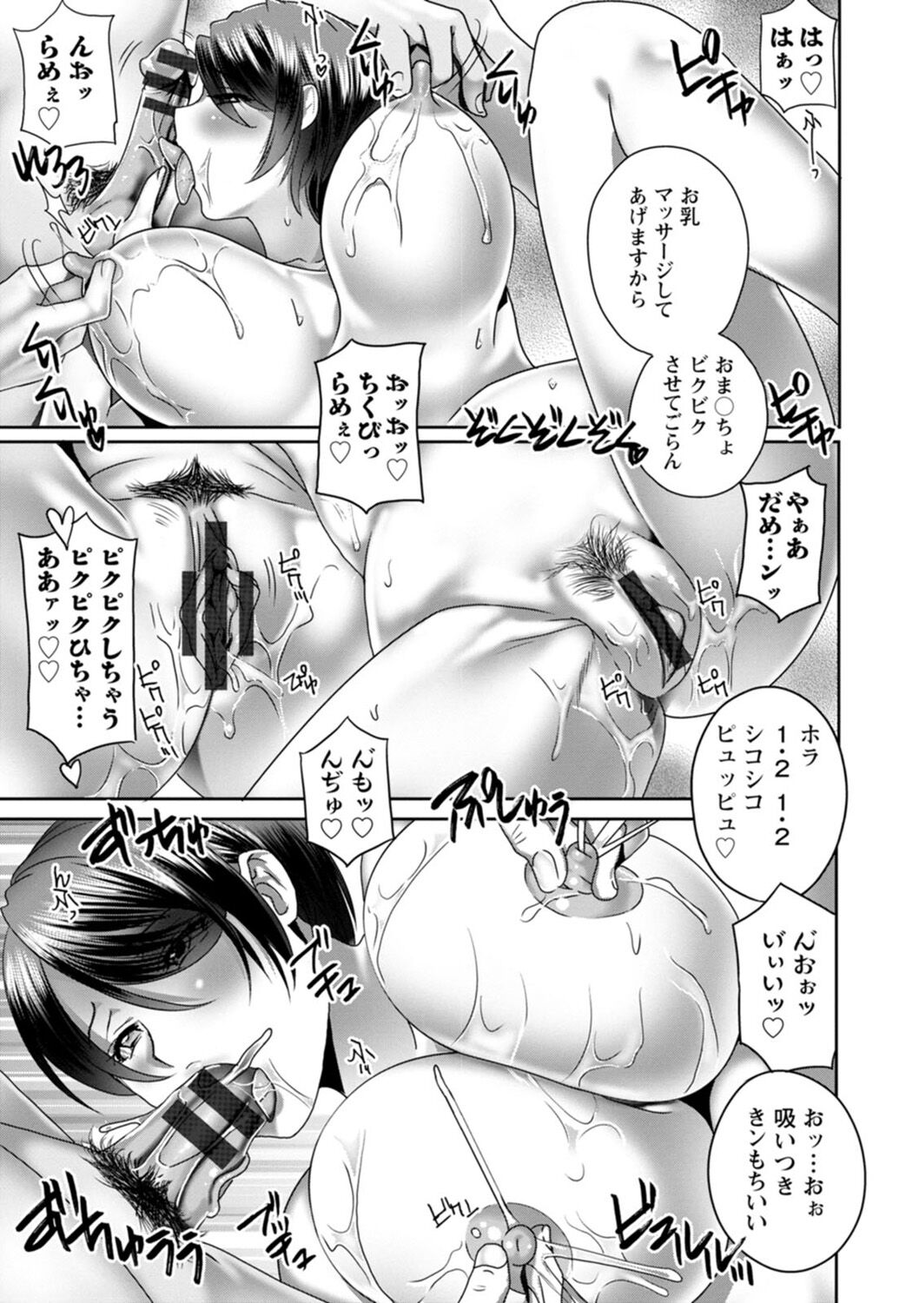text_region: (28, 542, 132, 732), (715, 718, 825, 872), (459, 402, 650, 470), (743, 1099, 832, 1234), (326, 364, 417, 485), (758, 921, 825, 1048), (32, 31, 101, 136), (755, 487, 815, 604), (318, 742, 382, 842), (768, 19, 833, 99), (802, 108, 824, 181)
